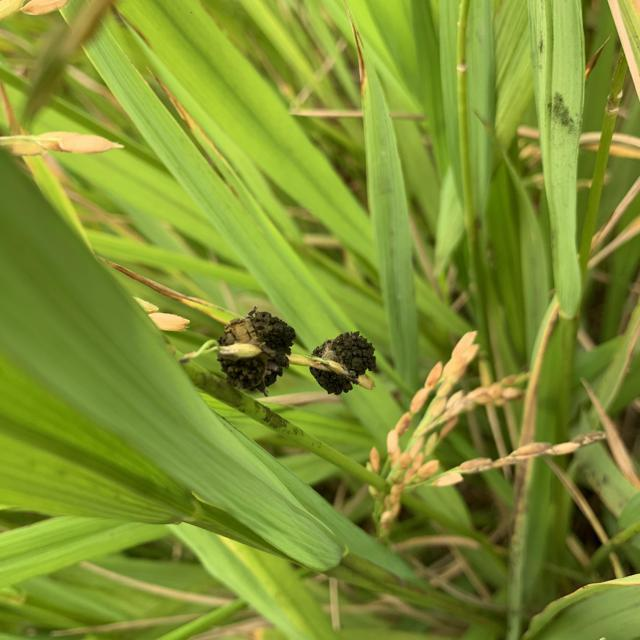Leaf_Scald: (214, 310, 300, 395), (310, 327, 379, 396)
